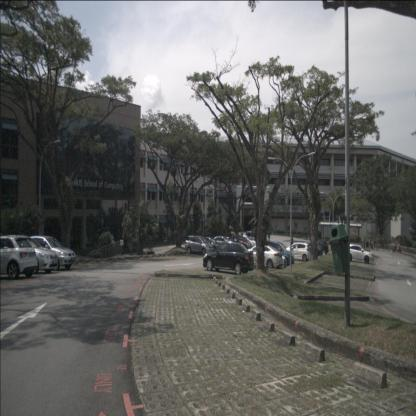human-pedestrian-adult: (291, 235, 294, 250)
vehicle-car: (3, 236, 58, 274), (22, 236, 76, 270), (203, 242, 254, 275), (0, 235, 38, 279), (244, 245, 284, 270), (257, 241, 294, 266), (185, 235, 214, 256), (347, 245, 375, 264), (284, 242, 310, 262), (309, 240, 329, 256), (197, 237, 218, 250), (213, 236, 229, 248), (224, 233, 238, 244)
vehicle-motorcycle: (365, 239, 376, 249), (392, 243, 402, 253)
